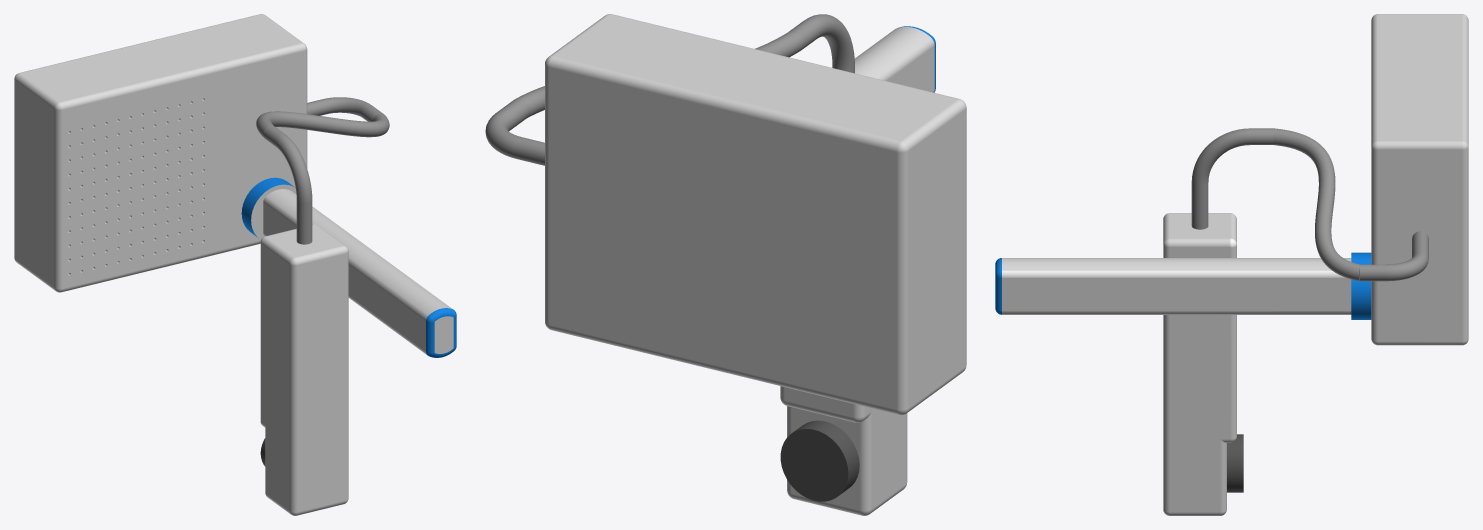
Rendered from Zeigen_Galvo_Laser.glb.
The picture shows the model from 3 angles, left to right: view 1: azimuth 30°, elevation 25°; view 2: azimuth 150°, elevation 25°; view 3: azimuth 270°, elevation 25°; orthographic projection. The views are drawn at different scales.
Parts seen in each view (by area): view 1: Laser-1, cabezal laser-1, Cuerpo1_1.step-1, cable laser-1; view 2: Laser-1, cabezal laser-1, cable laser-1, Cuerpo1_1.step-1; view 3: Laser-1, Cuerpo1_1.step-1, cabezal laser-1, cable laser-1.
Part boxes in pixels (left/top/right/bottom): Laser-1: left=14, top=14, right=307, bottom=292; cabezal laser-1: left=260, top=224, right=348, bottom=515; Cuerpo1_1.step-1: left=241, top=177, right=456, bottom=357; cable laser-1: left=256, top=97, right=389, bottom=244; Laser-1: left=545, top=14, right=966, bottom=415; cabezal laser-1: left=780, top=386, right=907, bottom=515; cable laser-1: left=485, top=14, right=854, bottom=165; Cuerpo1_1.step-1: left=854, top=26, right=935, bottom=92; Laser-1: left=1371, top=14, right=1468, bottom=345; Cuerpo1_1.step-1: left=995, top=252, right=1371, bottom=319; cabezal laser-1: left=1163, top=213, right=1243, bottom=515; cable laser-1: left=1191, top=128, right=1428, bottom=281.
Bounding box in the file's own units: 0.5975 × 0.6632 × 0.705.
